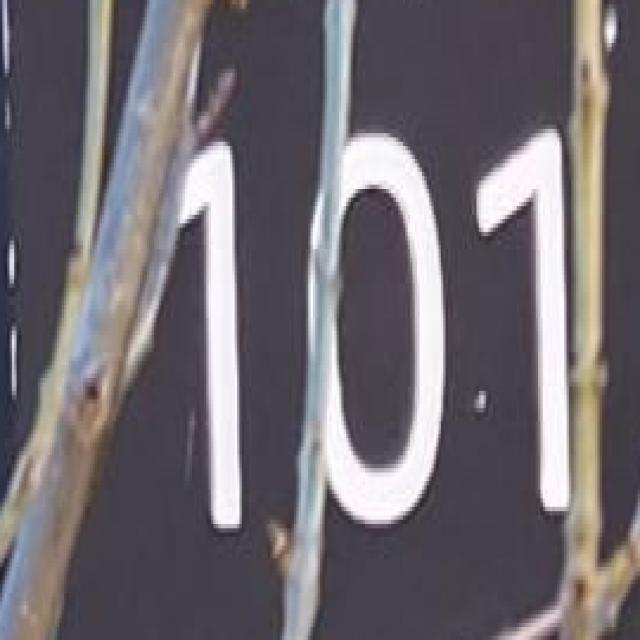character: (302, 124, 454, 545), (144, 135, 254, 550), (471, 118, 580, 523)
